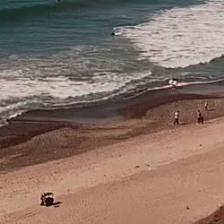surfer: (111, 32, 115, 36), (57, 0, 60, 3)
